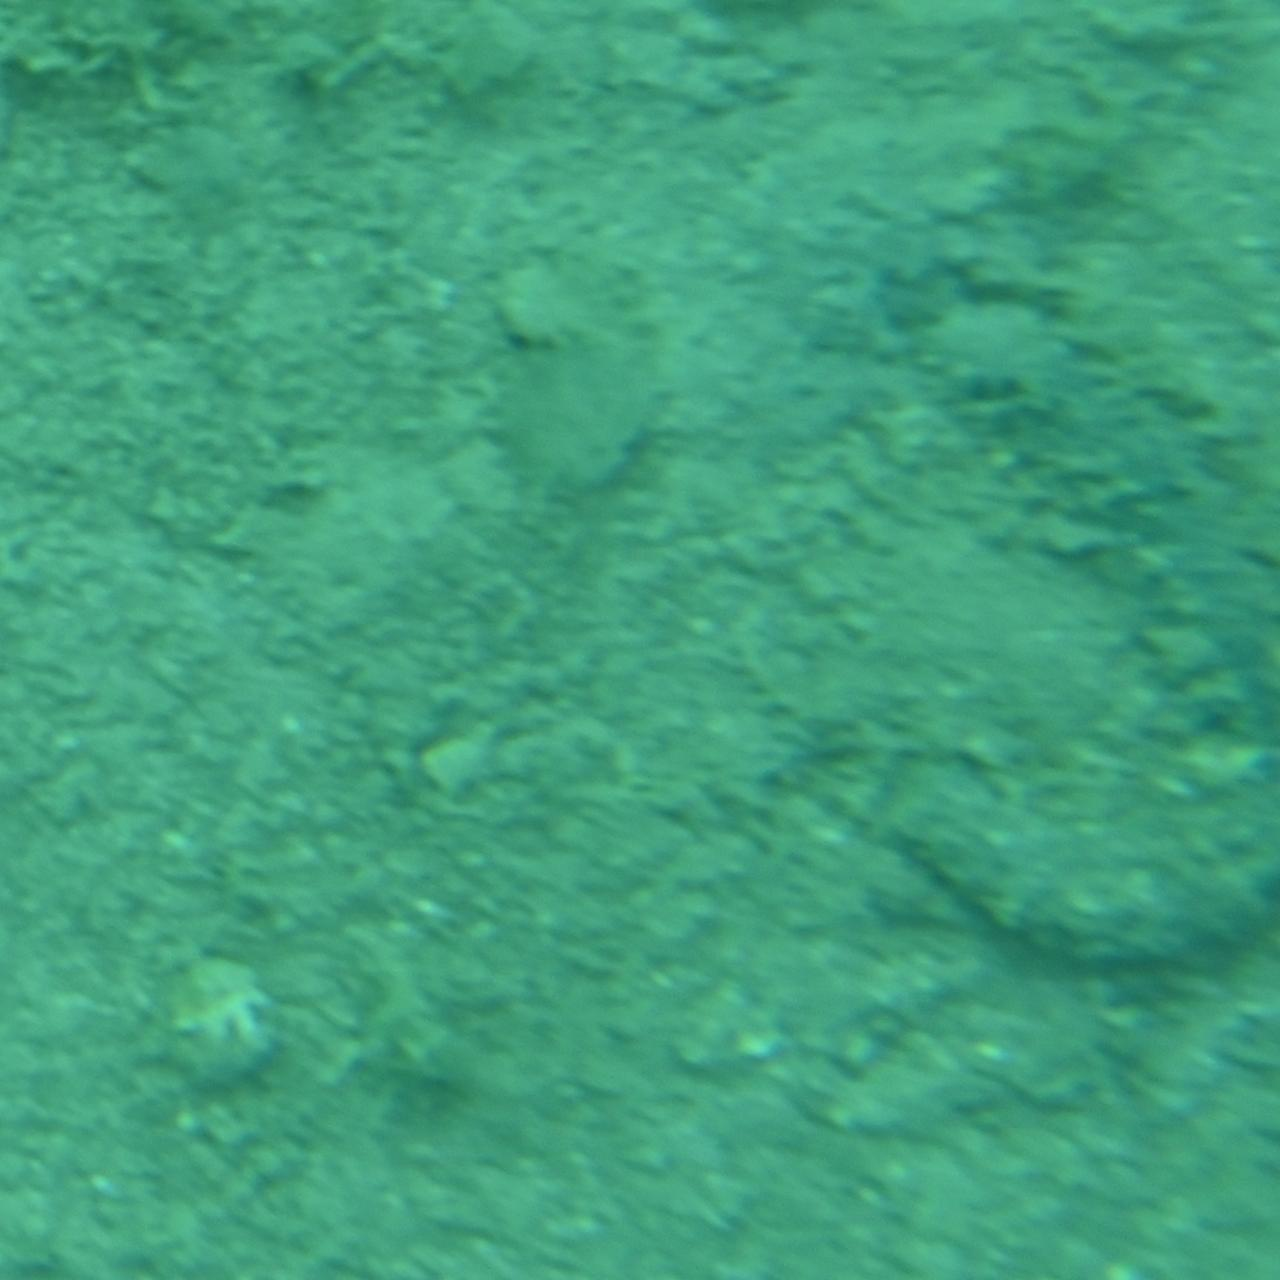Holothuria tubulosa: (885, 286, 1276, 994)
